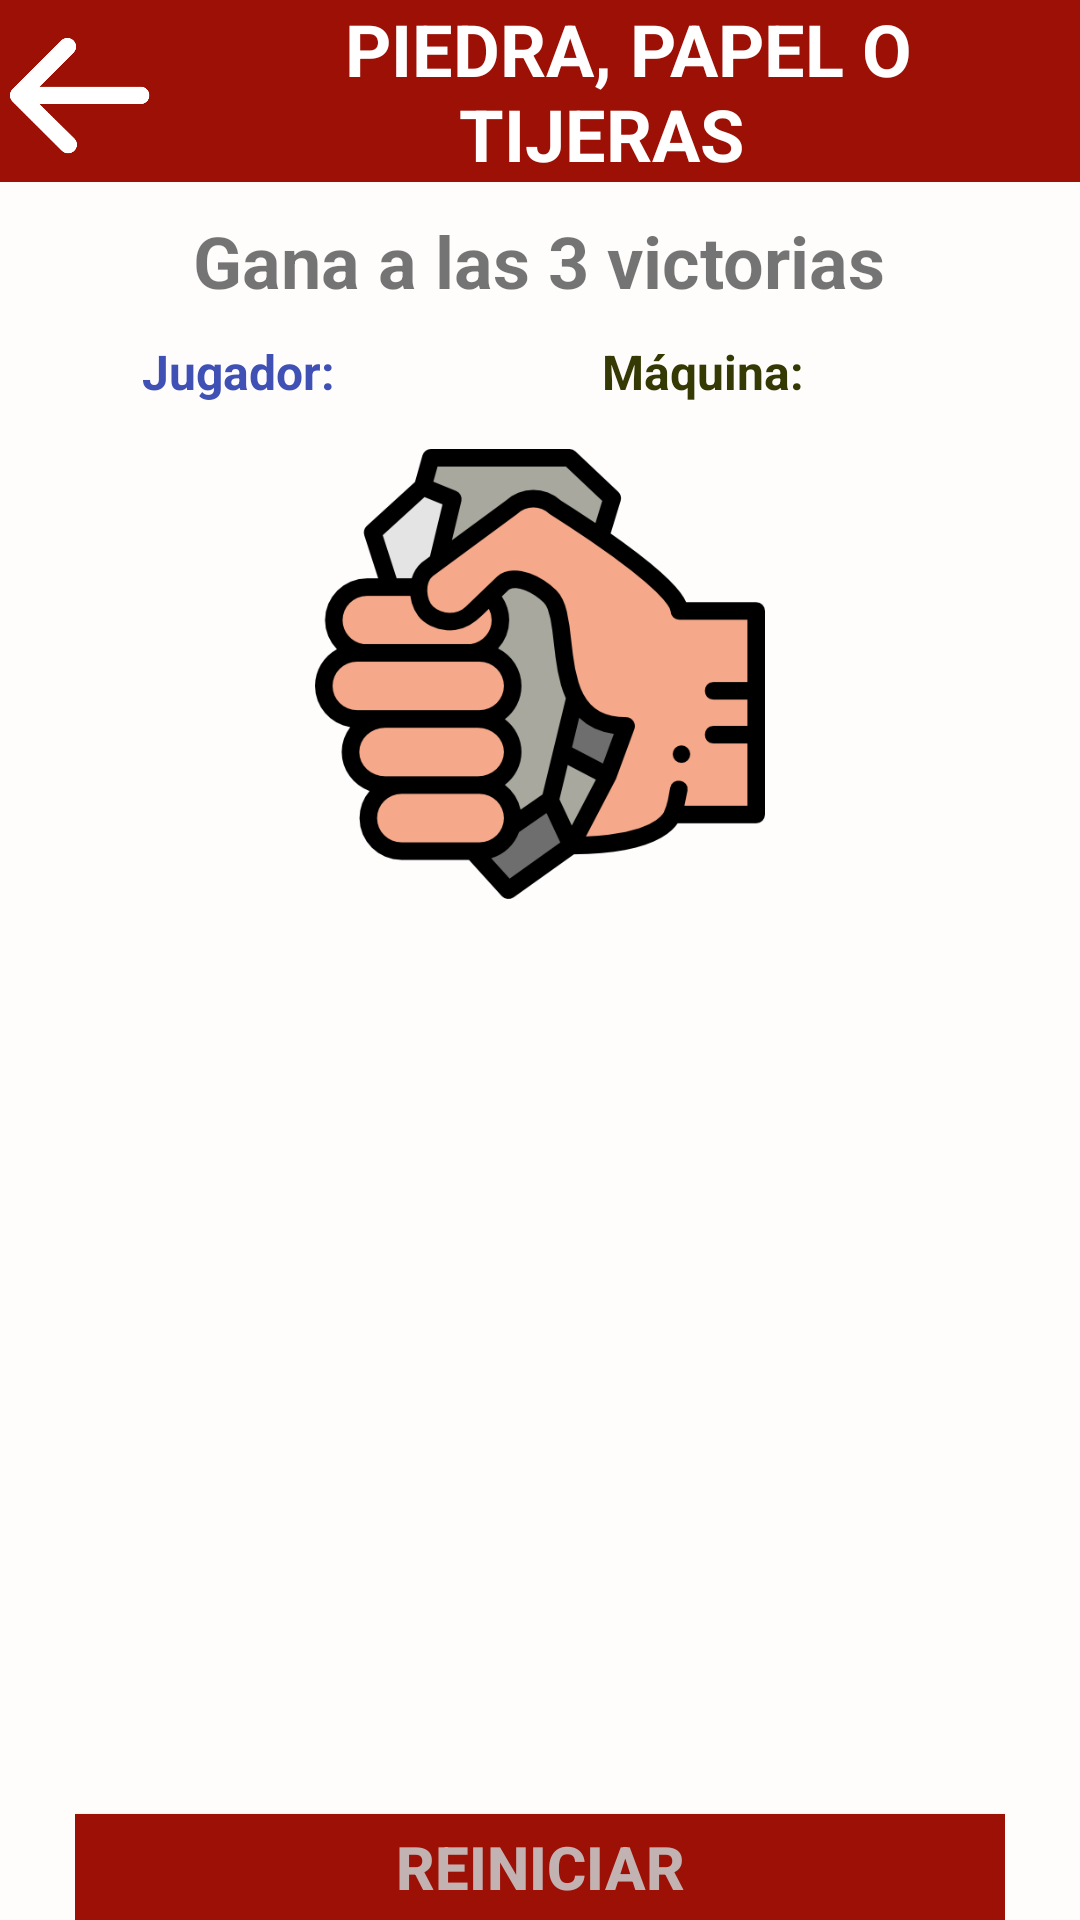

Named icons in this screenshot (1080w x 1920h) and their centers, point (x, y):
flecha izquierda: point (80, 96)
